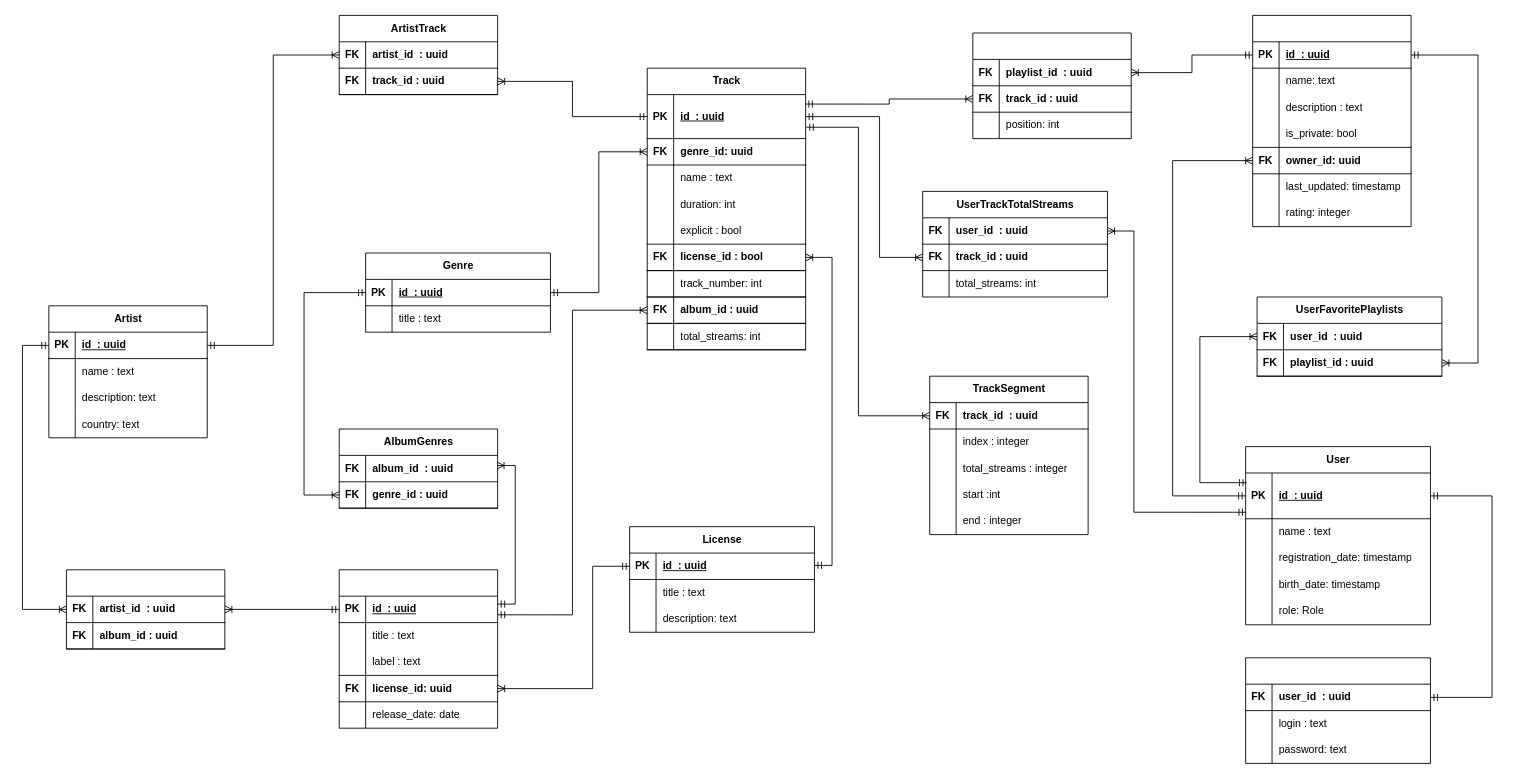
Some shapes in this 1515 by 779 pixel diagram are drawn without their labels. The box of each missing label's shape, as (x1, y1, x2, y2) in pixels:
Album: (338, 569, 498, 728)
ArtistAlbum: (66, 569, 225, 649)
Playlist: (1252, 15, 1411, 227)
PlaylistTrack: (972, 32, 1131, 139)
UserCredentials: (1245, 657, 1430, 763)
